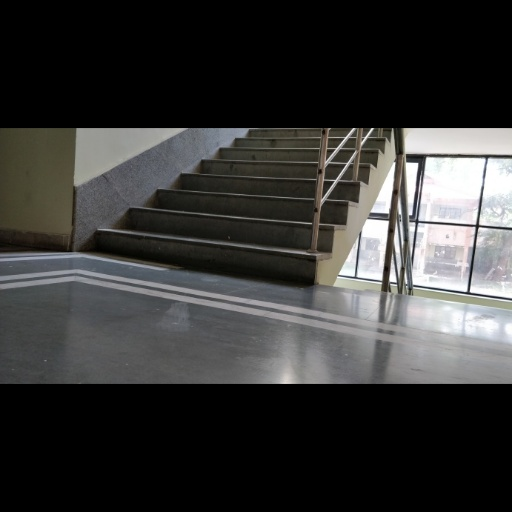Stairs: (96, 129, 383, 284)
